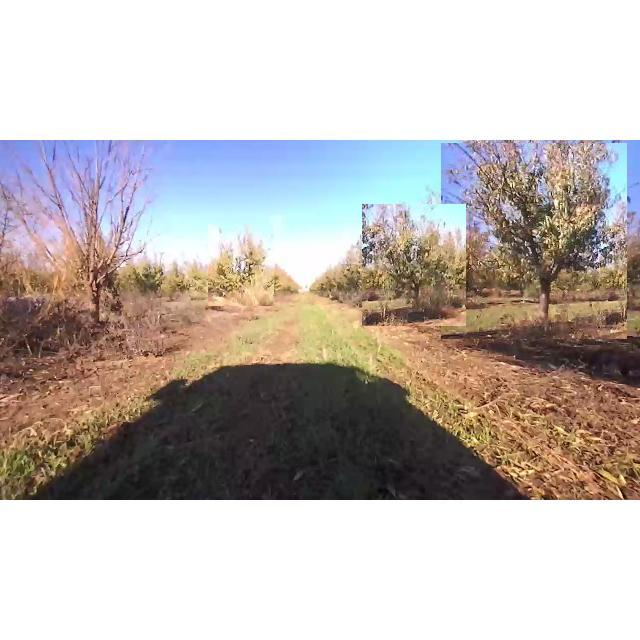direk: (441, 143, 627, 339), (1, 142, 170, 354), (362, 204, 466, 326), (208, 224, 274, 306)
